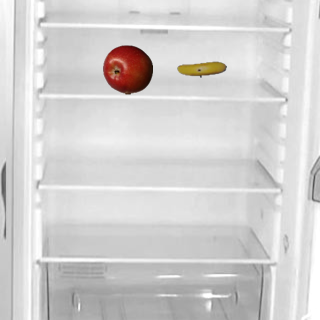Apple Braeburn: (102, 44, 152, 94)
Banana: (176, 44, 226, 94)
